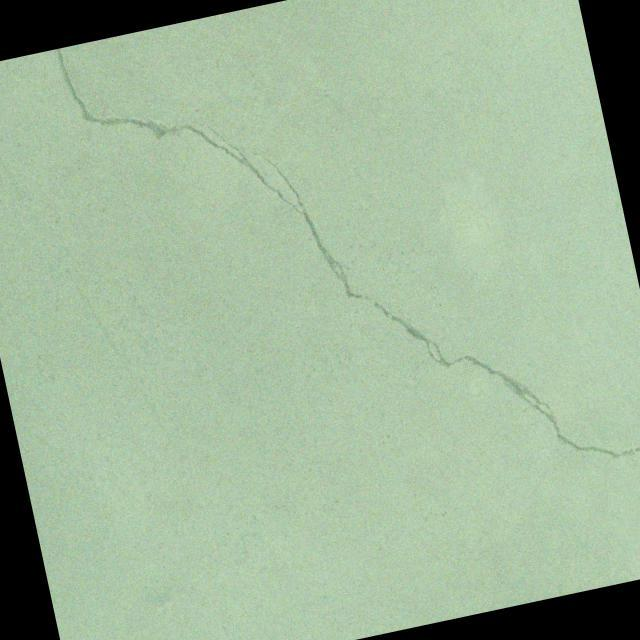crack: (55, 0, 640, 579), (354, 91, 389, 108)
